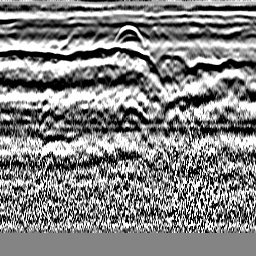cavity: (113, 23, 146, 45)
